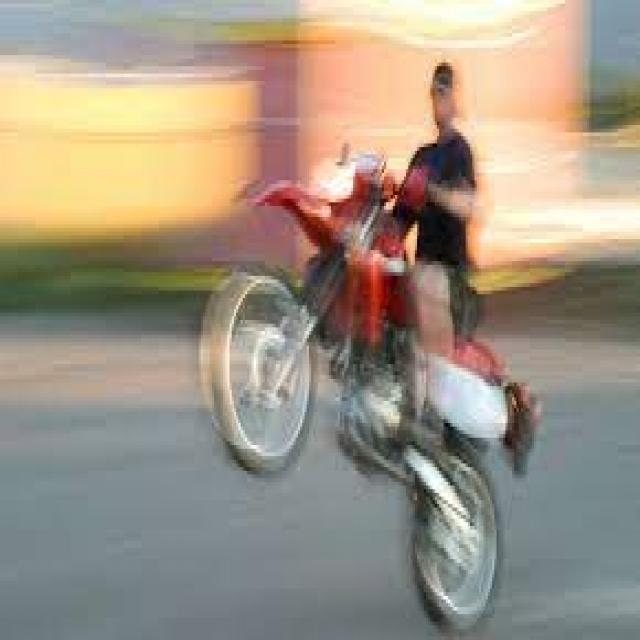Wheeling: (251, 21, 522, 601)
